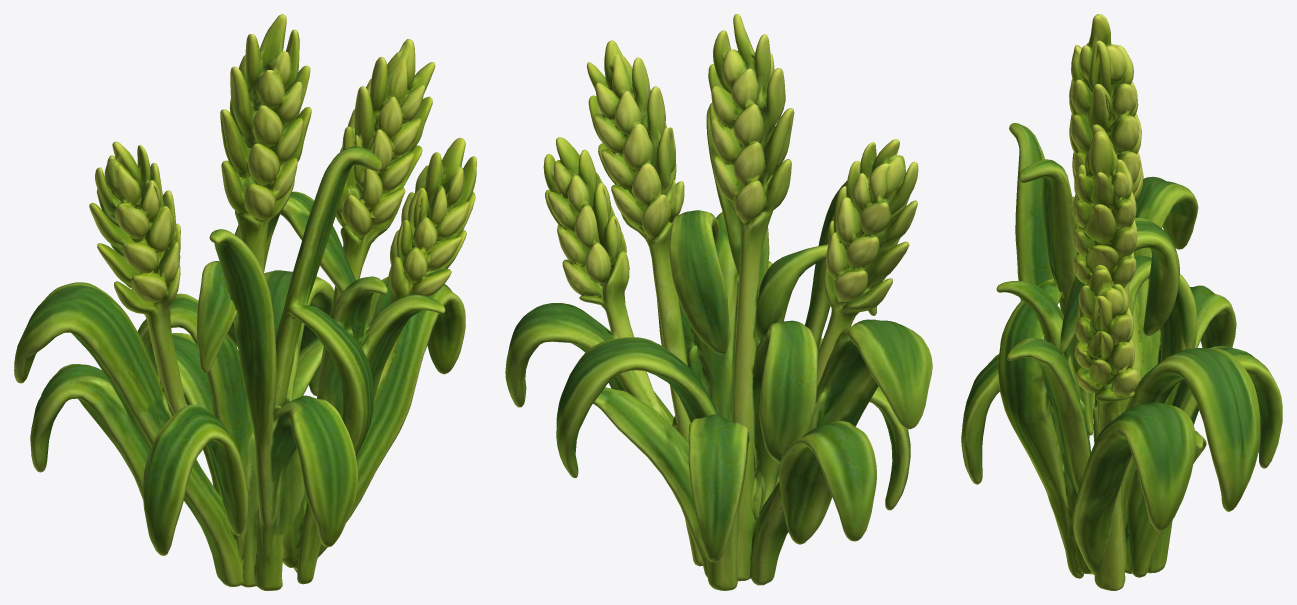
File: wheat-growing.glb
The picture shows the model from 3 angles, left to right: view 1: azimuth 30°, elevation 25°; view 2: azimuth 150°, elevation 25°; view 3: azimuth 270°, elevation 25°; orthographic projection. The views are drawn at different scales.
Bounding box in the file's own units: 1.53 × 1.9 × 0.9891.
Materials: 1 (1 with a texture image).
